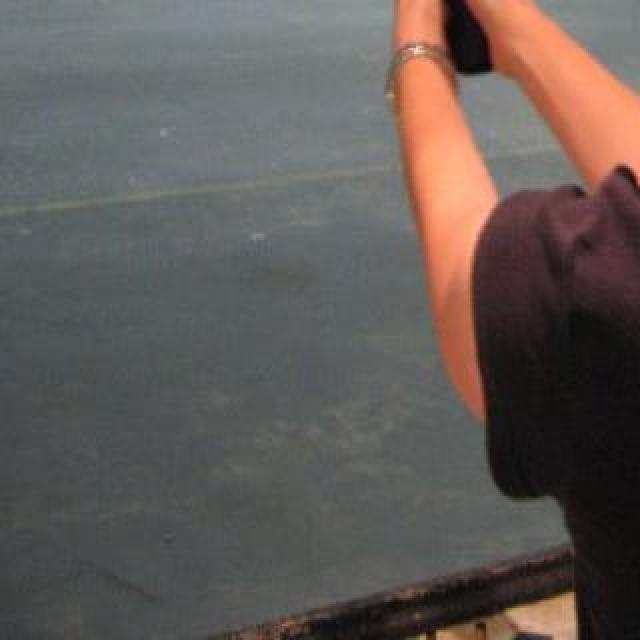Guns: (352, 0, 534, 102)
